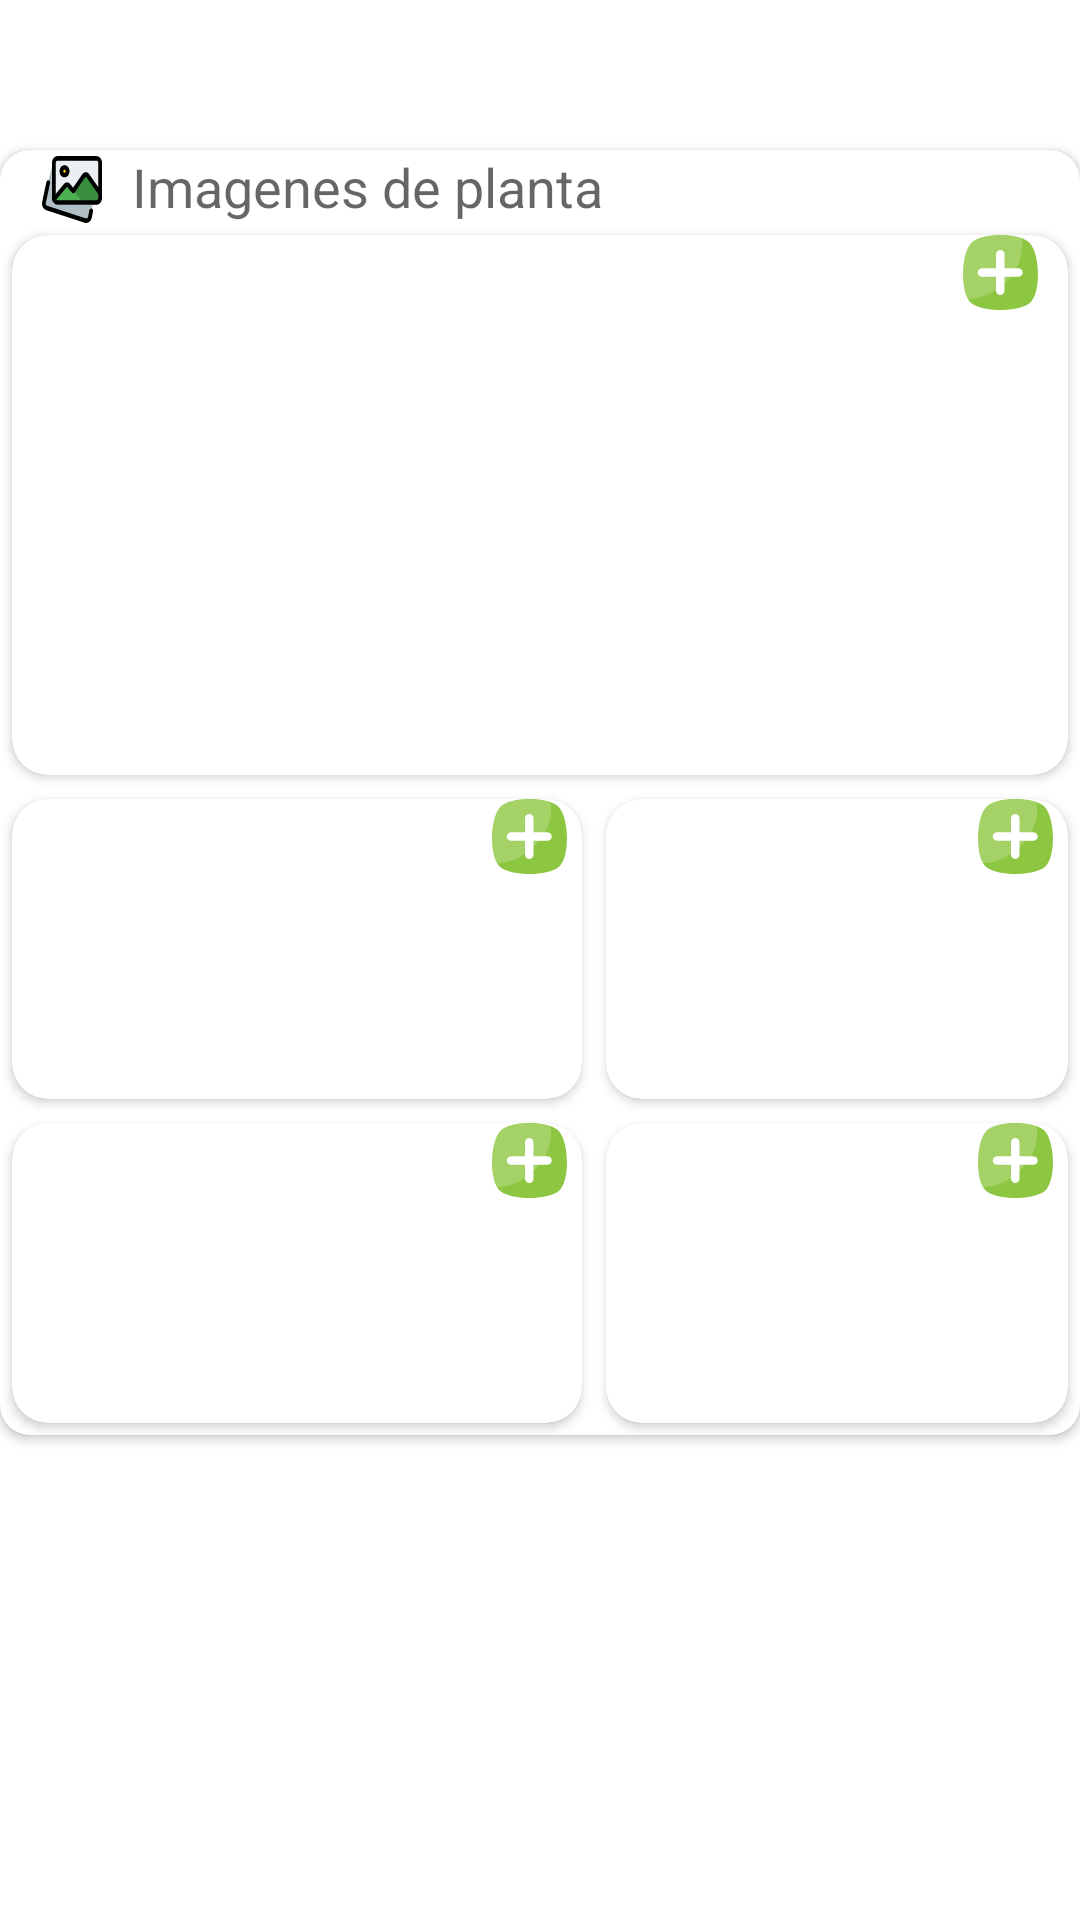

Screen size 1080px x 1920px. Icon name, then its center in pixels as point (x, y):
galeria de imagenes: point (72, 189)
mas: point (1000, 272), point (529, 836), point (1015, 836), point (529, 1160), point (1015, 1160)
